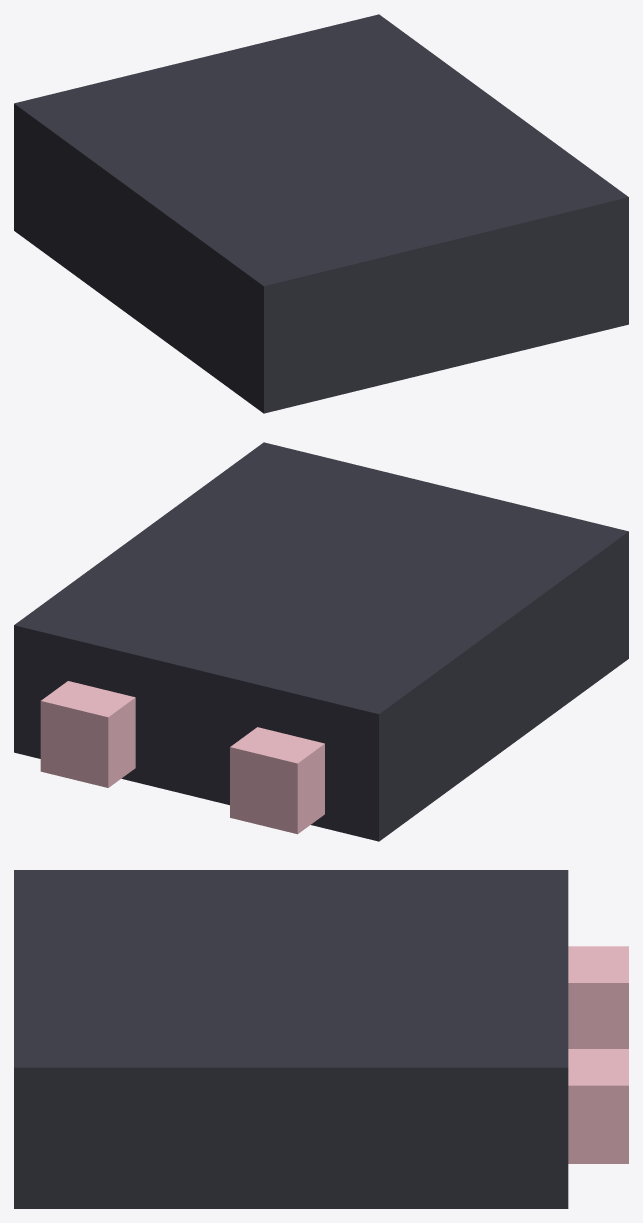
Rendered from gato_preto_pe.glb.
3 renders of one model, top to bottom at view 1: azimuth 30°, elevation 25°; view 2: azimuth 150°, elevation 25°; view 3: azimuth 270°, elevation 25°, orthographic. The views are drawn at different scales.
Parts seen in each view (by area): view 1: gato_preto_pe; view 2: gato_preto_pe; view 3: gato_preto_pe.
Part boxes in pixels (box(x1,y1,x2,y2)): gato_preto_pe: box(14, 14, 628, 413); gato_preto_pe: box(14, 442, 628, 841); gato_preto_pe: box(14, 870, 628, 1208).
Size of the model in its own units: 0.27 by 0.09 by 0.355.
